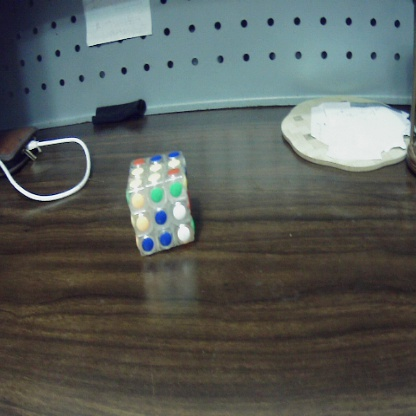Rubix Cube: (122, 151, 202, 253)
